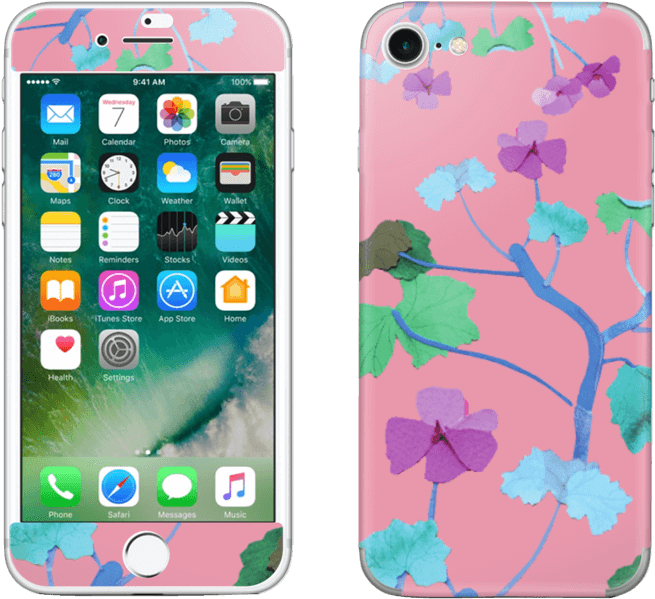phone: (355, 3, 655, 595), (2, 6, 290, 599)
